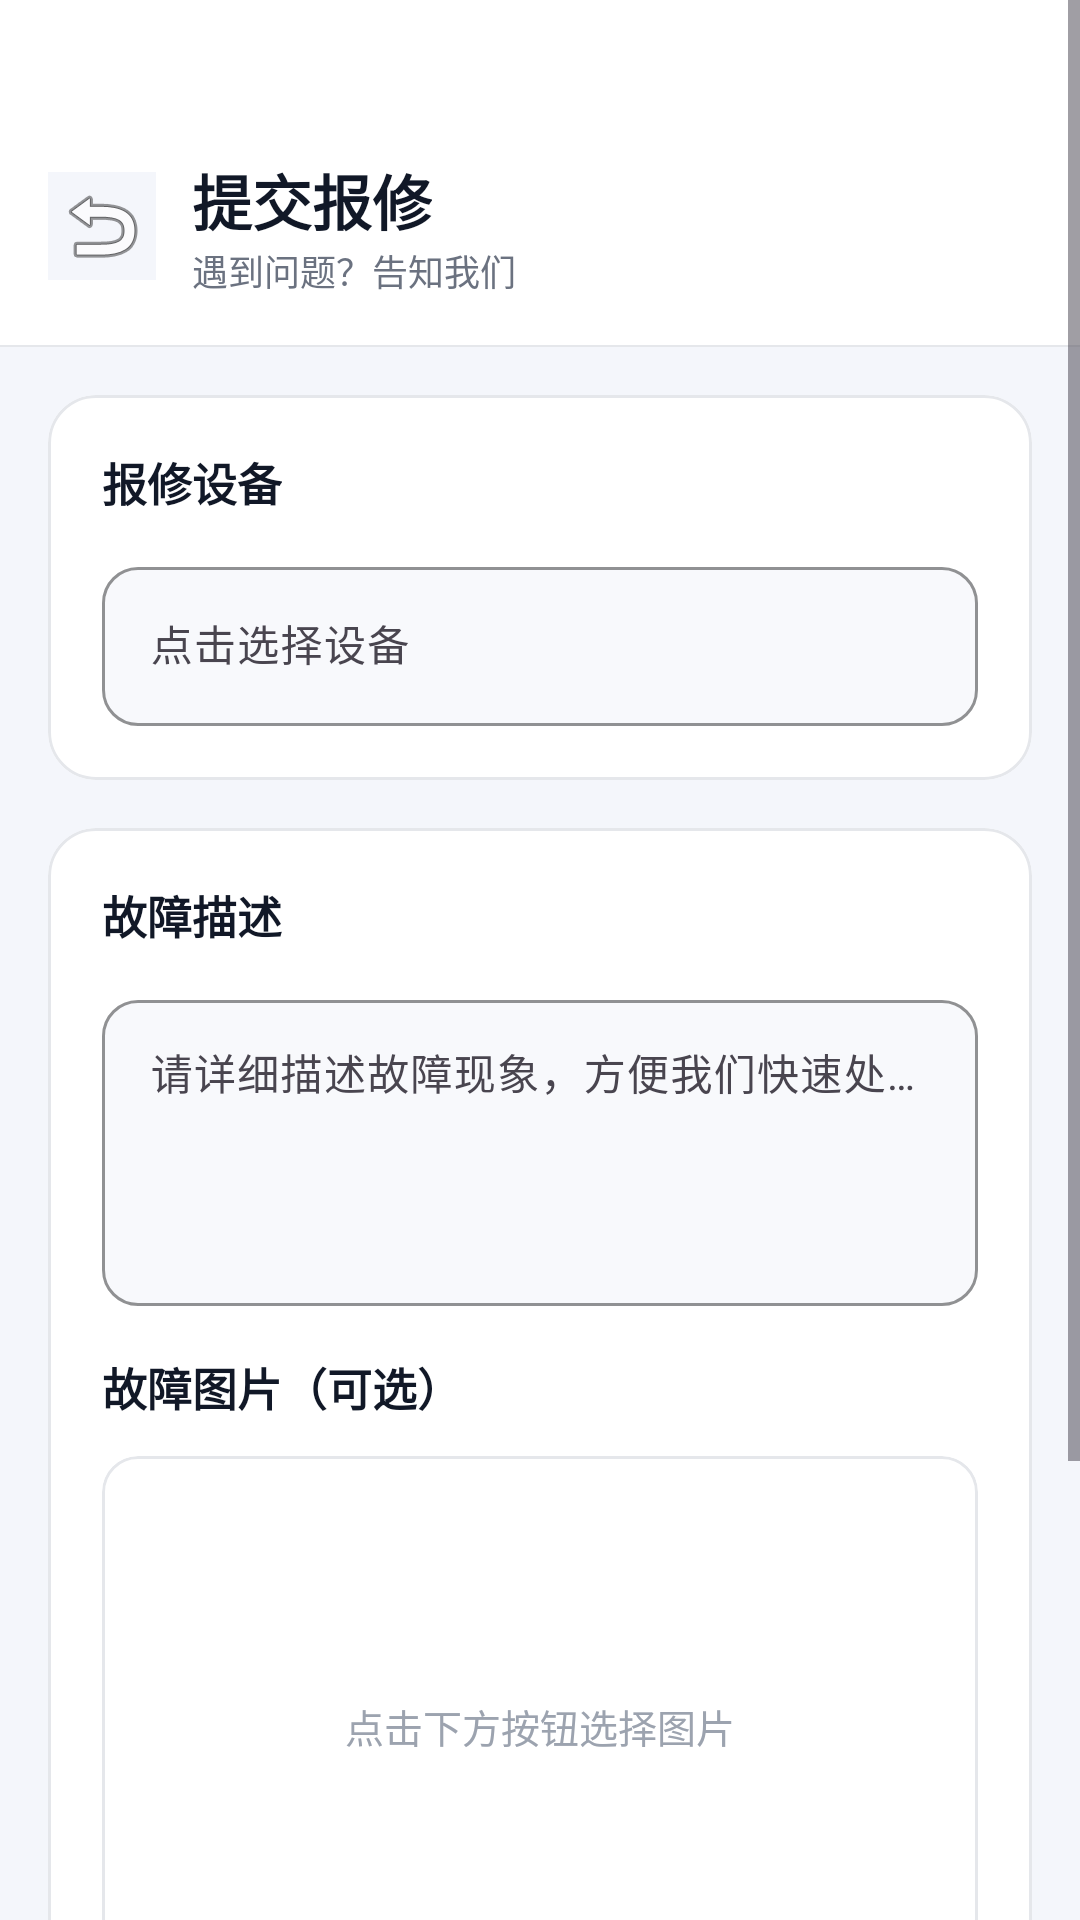

Icon bounding boxes for this 1080×1920 phone screenshot, format (x1, y1, x2, y2):
返回: (48, 172, 156, 280)
